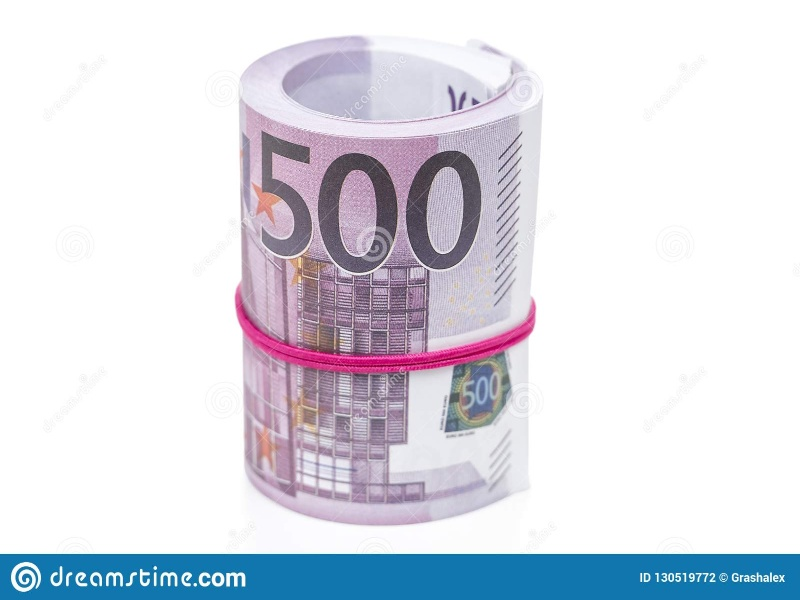cash: (240, 34, 542, 525)
